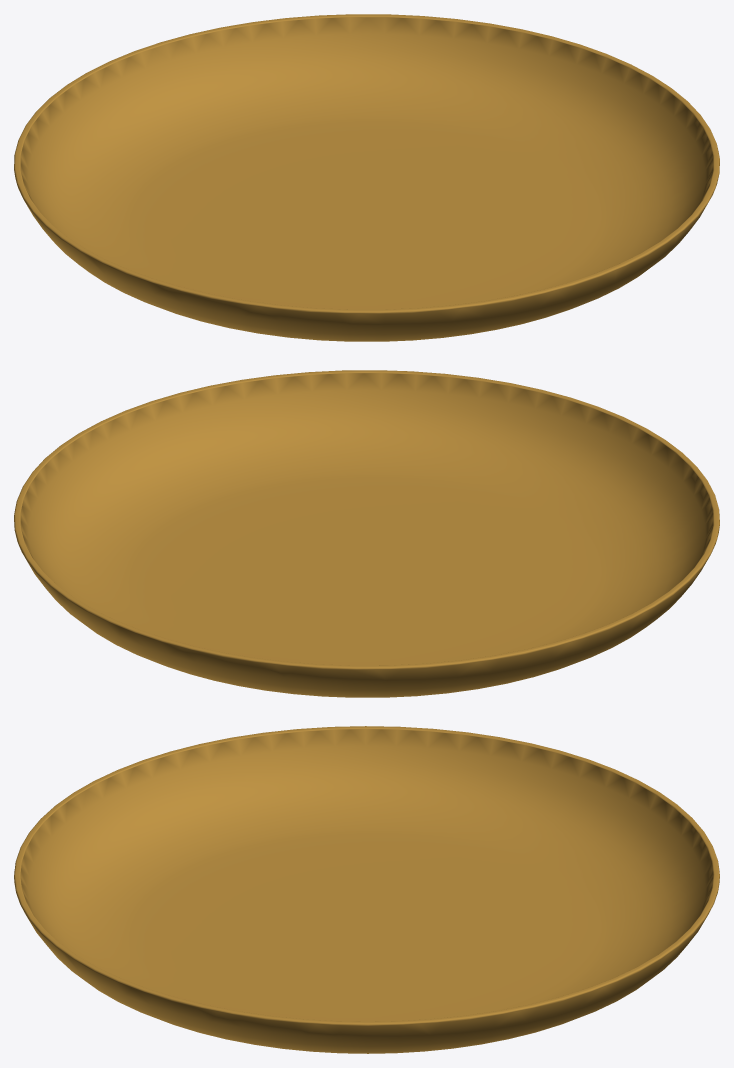
Rendered from round-plate-original.glb.
The picture shows the model from 3 angles, top to bottom: view 1: azimuth 30°, elevation 25°; view 2: azimuth 150°, elevation 25°; view 3: azimuth 270°, elevation 25°; orthographic projection.
Visible parts, largest first — view 1: 4; view 2: 4; view 3: 4.
Boxes of the visible parts, x1=… form: 4: x1=14, y1=14, x2=719, y2=341; 4: x1=14, y1=370, x2=719, y2=697; 4: x1=14, y1=726, x2=719, y2=1053.
Size of the model in its own units: 2.59 by 0.2601 by 2.59.
